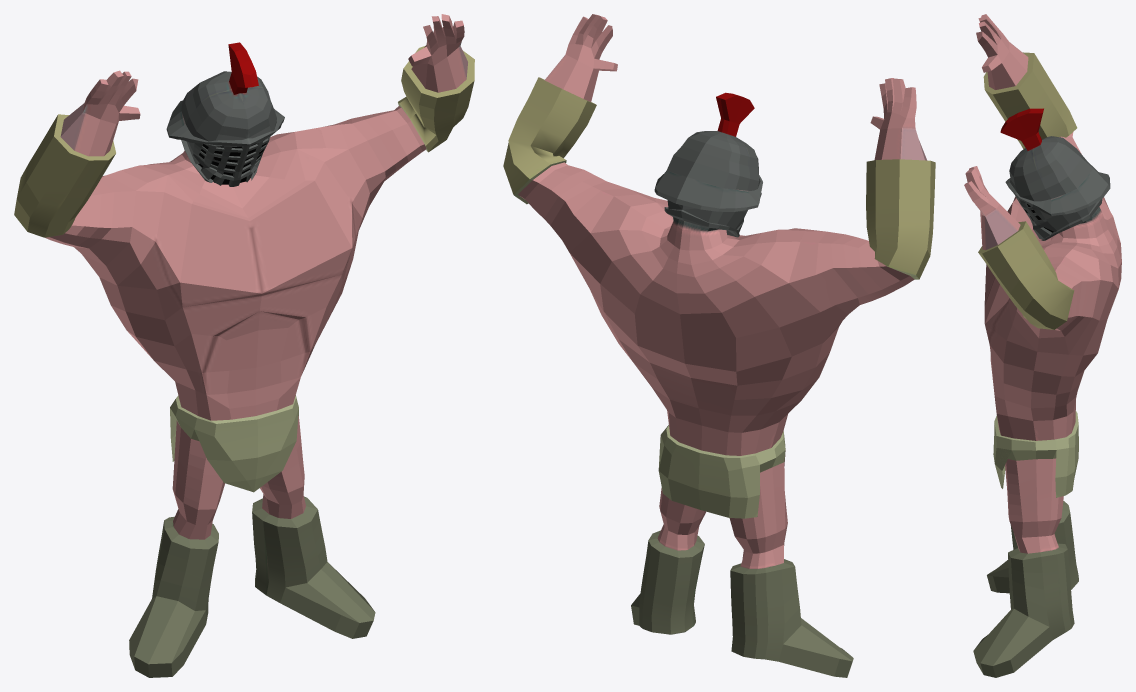
Rendered from GladiatorCelebracion_000594.obj.
The picture shows the model from 3 angles, left to right: view 1: azimuth 30°, elevation 25°; view 2: azimuth 150°, elevation 25°; view 3: azimuth 270°, elevation 25°; orthographic projection. The views are drawn at different scales.
Visible parts, largest first — view 1: Gadiador_Gladiador_H; view 2: Gadiador_Gladiador_H; view 3: Gadiador_Gladiador_H.
Boxes of the visible parts, x1,y1,x2,y2 form: Gadiador_Gladiador_H: (14,14,474,677); Gadiador_Gladiador_H: (503,14,935,677); Gadiador_Gladiador_H: (964,14,1121,677).
Bounding box in the file's own units: 5.91 × 7.99 × 2.08.
Materials: 1 (1 with a texture image).
